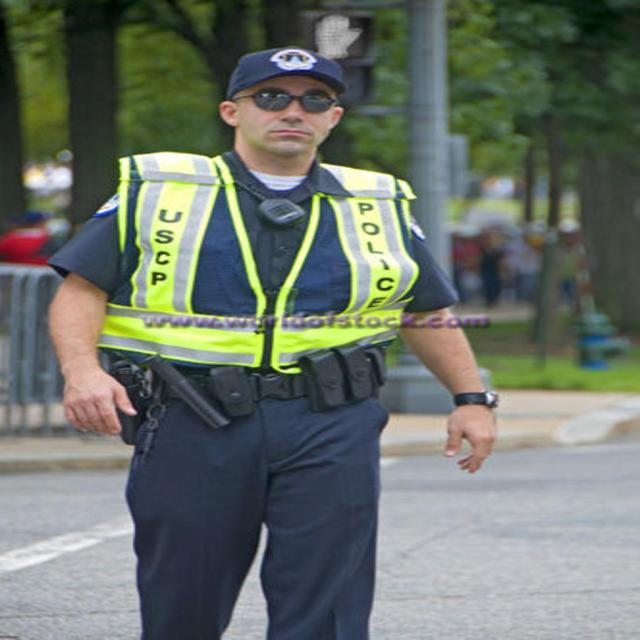Face: (233, 72, 350, 156)
